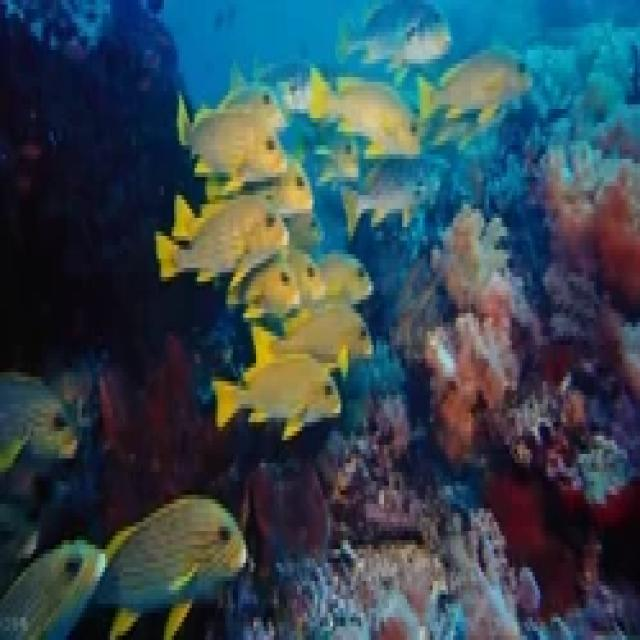RibbonedSweetlips: (90, 495, 248, 640), (153, 194, 290, 289), (176, 90, 289, 191), (211, 355, 342, 442), (0, 537, 107, 640), (307, 64, 420, 159), (250, 304, 372, 379), (0, 373, 78, 475)
